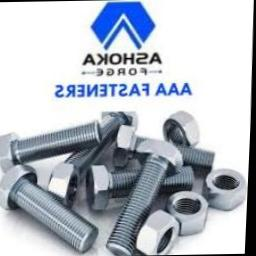Non-corroded Nut: (138, 210, 183, 256), (167, 191, 210, 237), (205, 169, 250, 212), (164, 112, 201, 147)
Non-corroded-Bolts: (108, 140, 184, 256), (0, 166, 100, 254), (0, 121, 102, 173)
